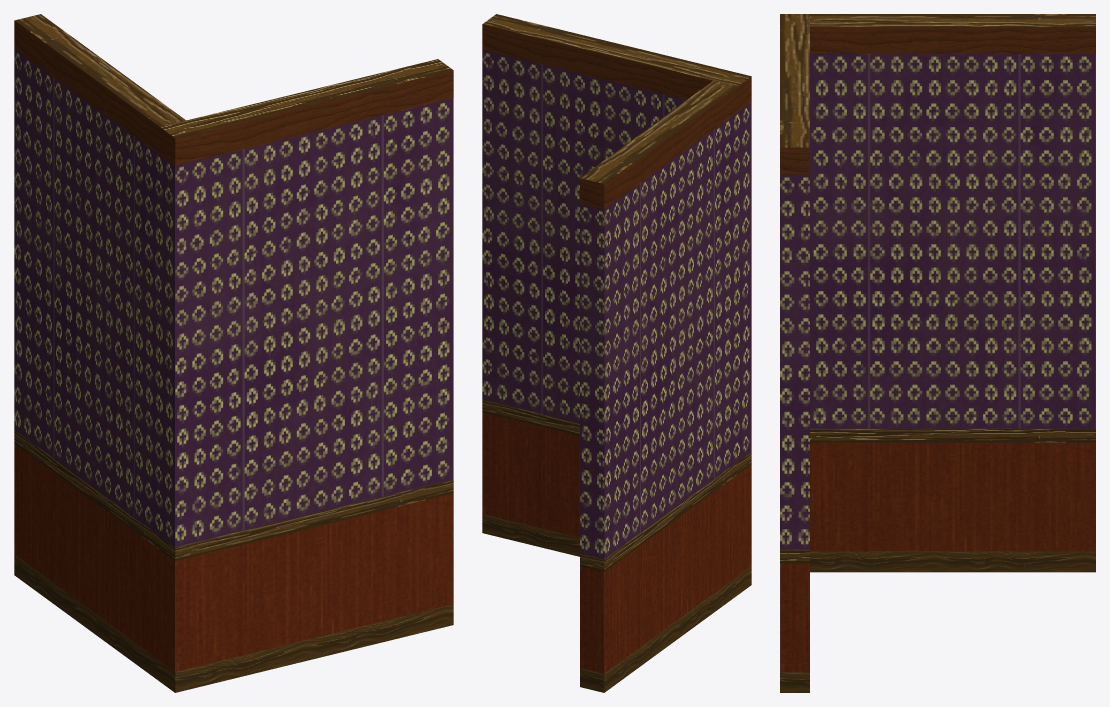
Rendered from SM_Wall_Corner_L_Plaster.fbx.
3 views of the same model, side by side, from view 1: azimuth 30°, elevation 25°; view 2: azimuth 150°, elevation 25°; view 3: azimuth 270°, elevation 25° (orthographic). The views are drawn at different scales.
Parts seen in each view (by area): view 1: SM_Wall_Corner_L_Plaster; view 2: SM_Wall_Corner_L_Plaster; view 3: SM_Wall_Corner_L_Plaster.
Boxes of the visible parts, x1,y1,x2,y2 form: SM_Wall_Corner_L_Plaster: (14, 14, 453, 692); SM_Wall_Corner_L_Plaster: (482, 14, 751, 692); SM_Wall_Corner_L_Plaster: (780, 14, 1095, 692).
Bounding box in the file's own units: 2.1 × 4 × 2.1.
